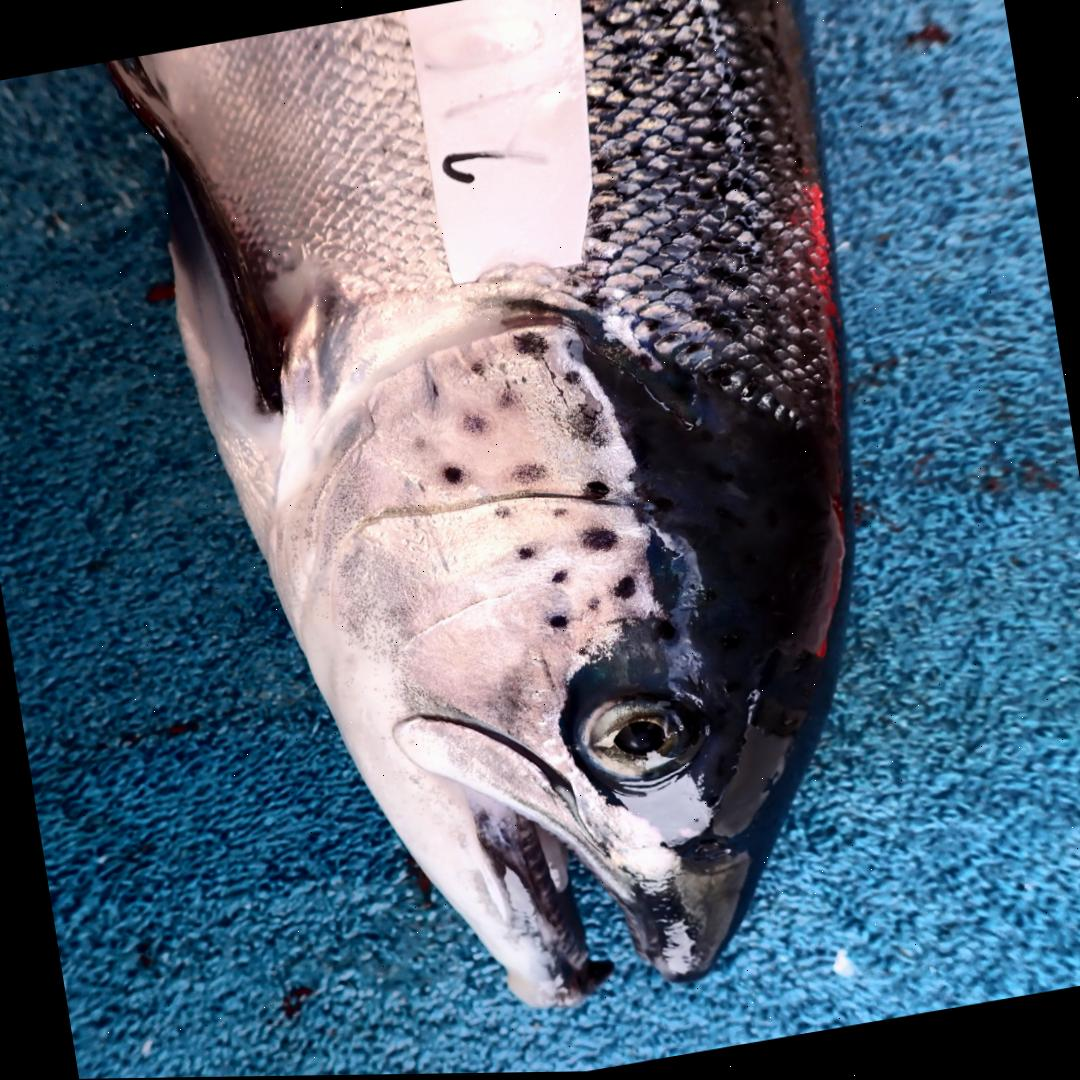spot: (568, 407, 607, 445), (511, 332, 547, 360), (508, 462, 547, 486), (580, 528, 616, 552), (459, 410, 492, 434), (612, 576, 636, 601), (582, 481, 608, 501), (496, 389, 518, 410), (565, 340, 583, 364), (440, 466, 462, 484), (515, 547, 535, 561), (471, 360, 486, 378), (549, 616, 567, 629), (563, 371, 579, 385), (493, 506, 510, 519), (551, 571, 566, 584), (587, 600, 602, 612), (553, 508, 569, 517)
